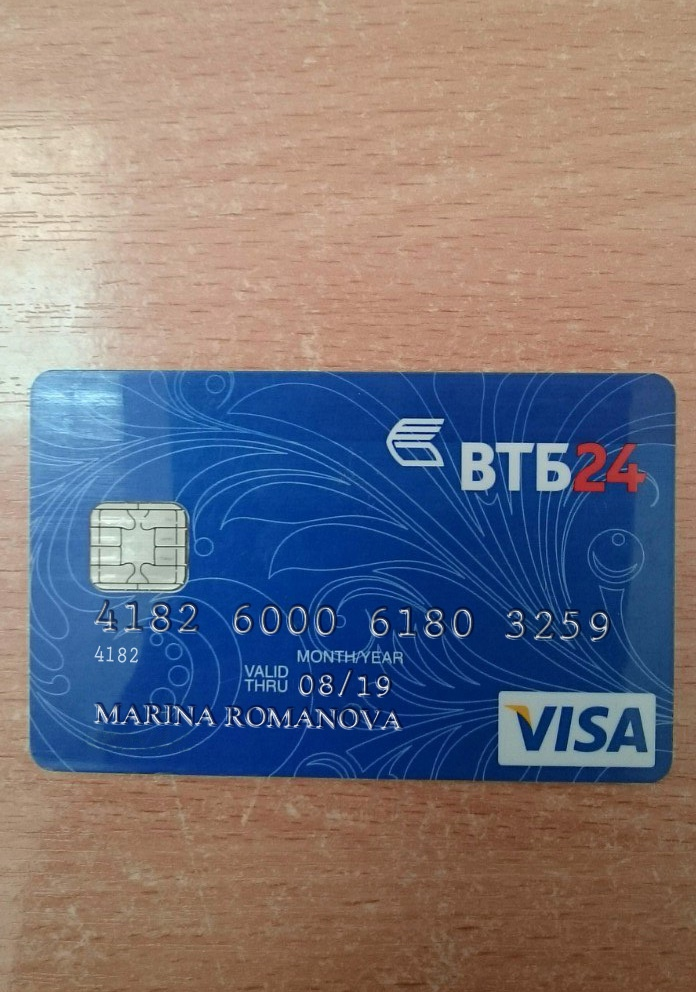card: (30, 368, 678, 783)
